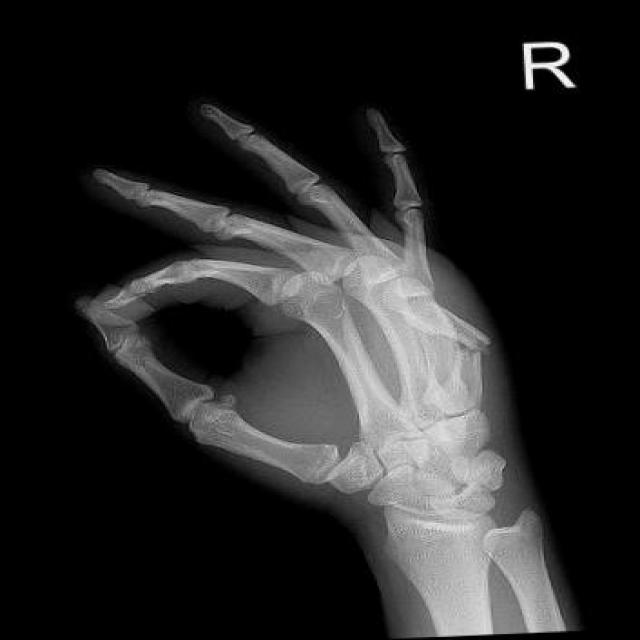Oblique: (390, 292, 505, 403)
